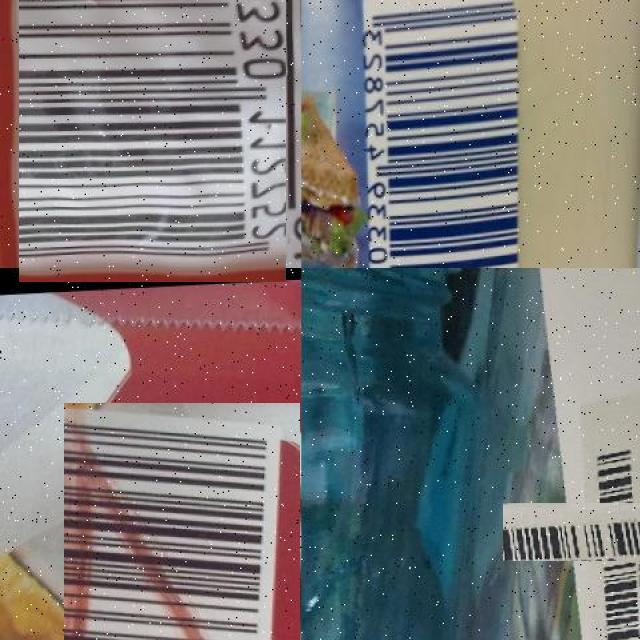Barcode: (12, 0, 294, 275), (63, 403, 301, 640), (359, 0, 536, 268), (542, 463, 640, 600)
